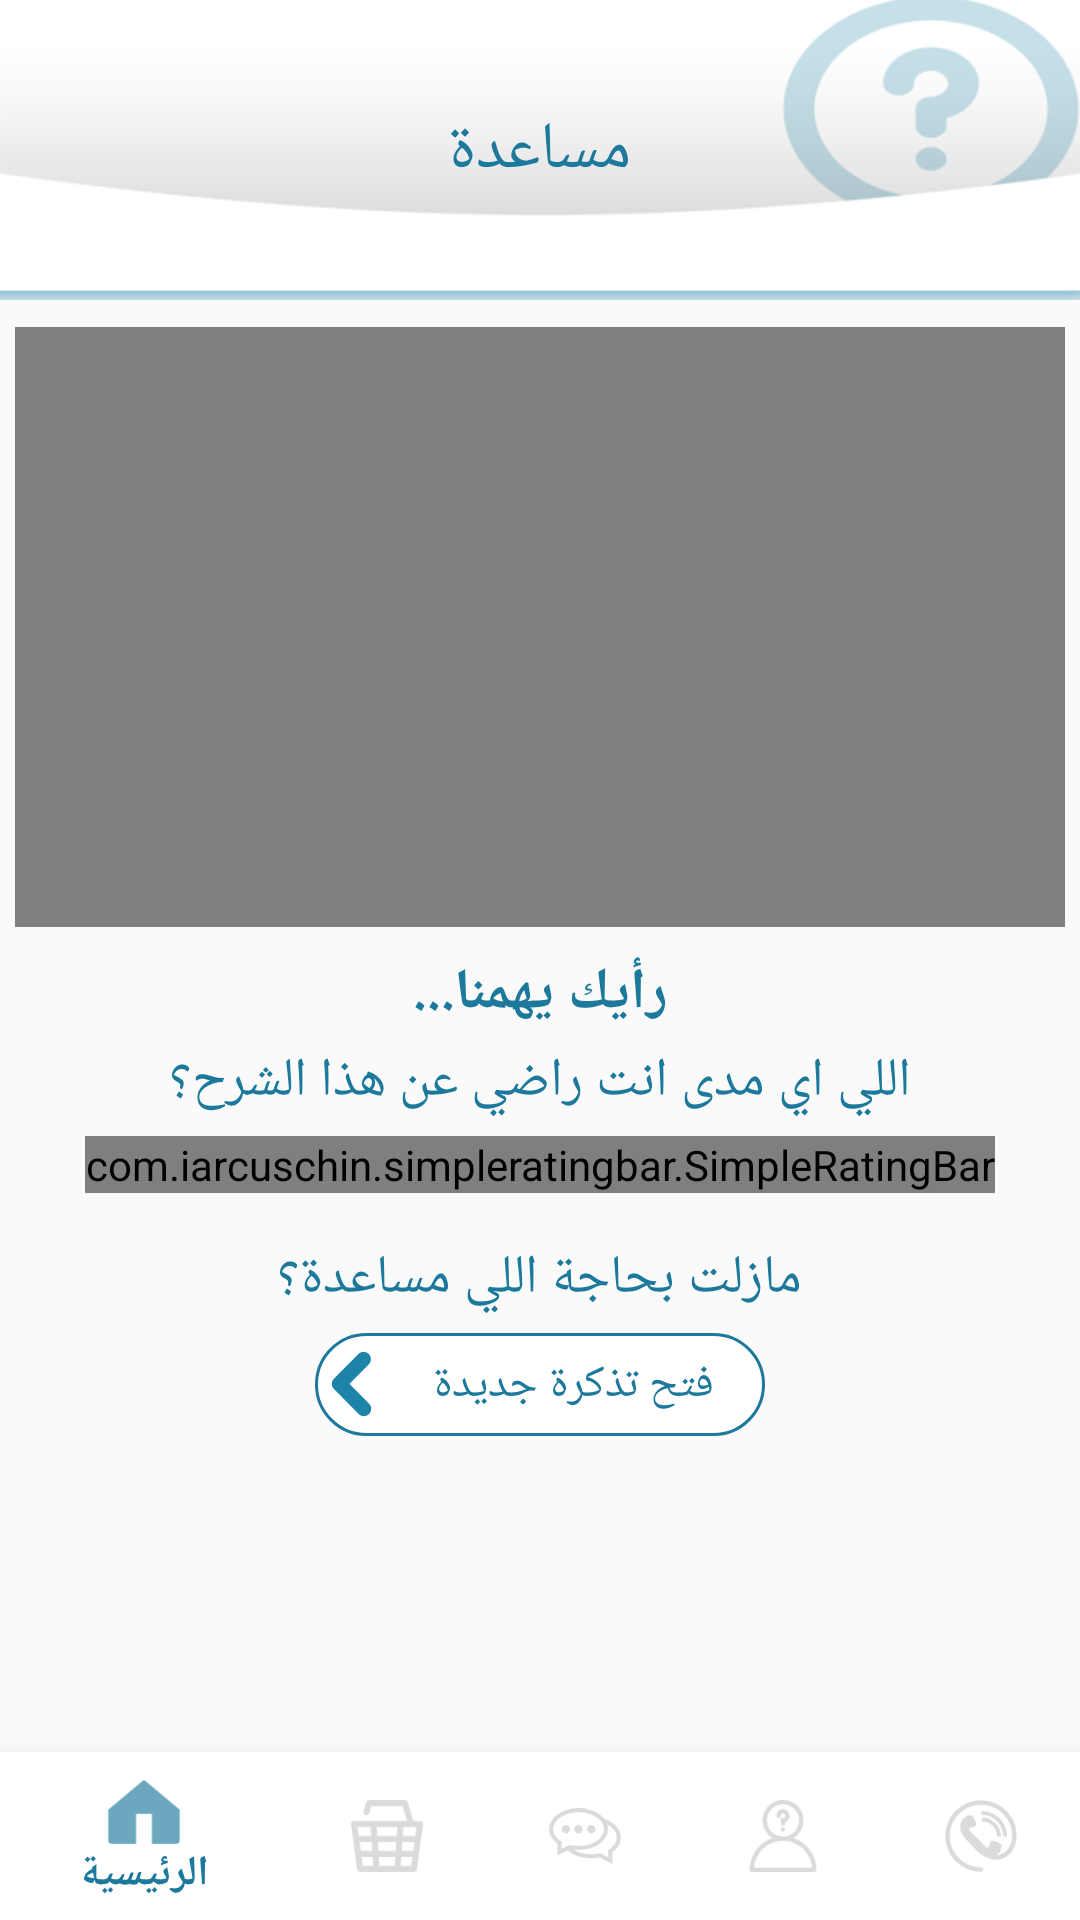

Icon bounding boxes for this 1080 x 1920 phone screenshot, format {"x1": x1, "y1": y1, "x2": x2, "y2": y2}:
go arrow: {"x1": 331, "y1": 1351, "x2": 372, "y2": 1417}
